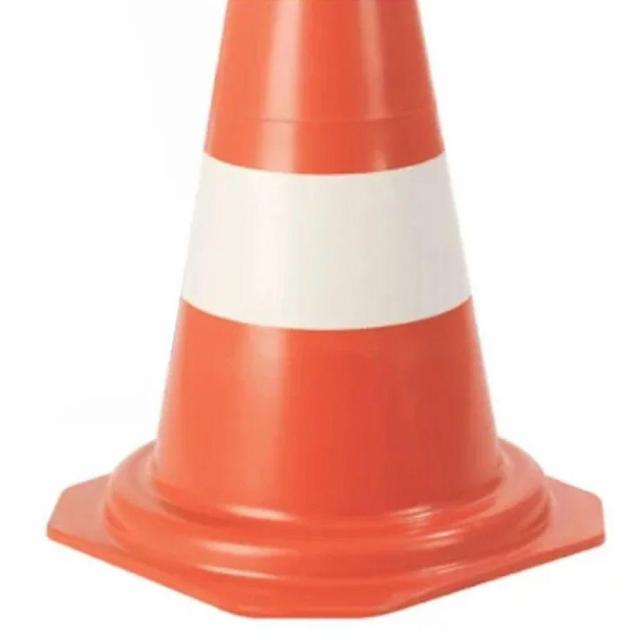cone: (46, 5, 578, 626)
